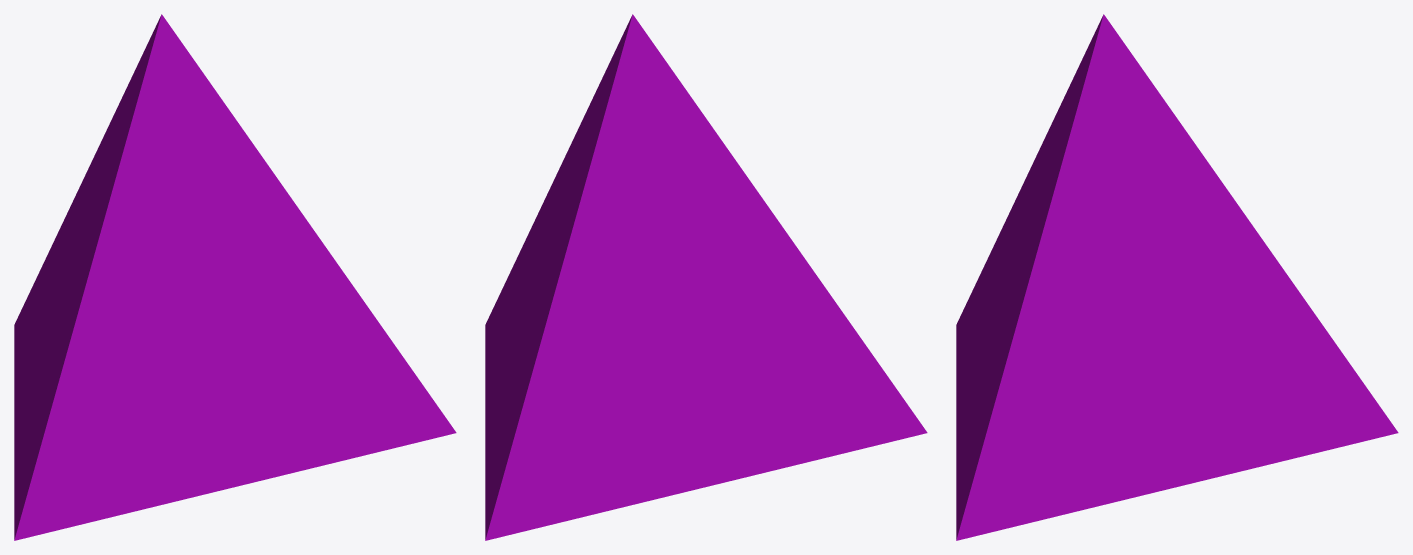
The model's file is Tetra.glb.
3 renders of one model, left to right at view 1: azimuth 30°, elevation 25°; view 2: azimuth 150°, elevation 25°; view 3: azimuth 270°, elevation 25°, orthographic.
Visible parts, largest first — view 1: Tetra-col; view 2: Tetra-col; view 3: Tetra-col.
Part boxes in pixels (x1,y1,x2,y2): Tetra-col: [14, 14, 456, 540]; Tetra-col: [485, 14, 927, 540]; Tetra-col: [956, 14, 1398, 540].
Size of the model in its own units: 1.73 by 1.57 by 1.5.
Materials: 1 (1 with a texture image).
